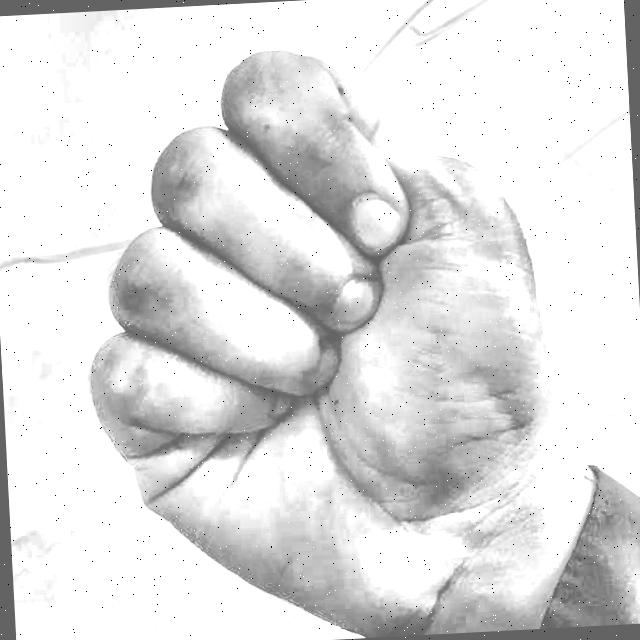To: (47, 15, 597, 640)
